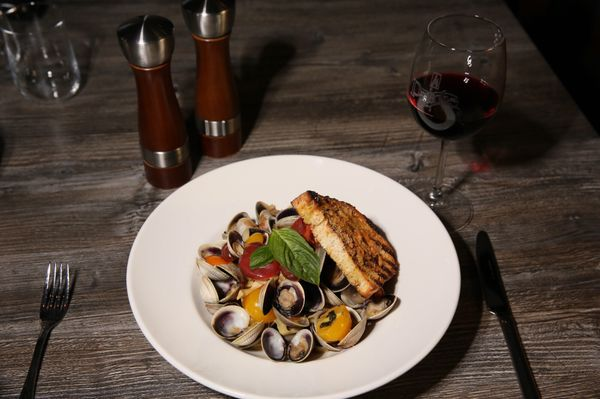burger: (19, 262, 76, 398)
pizza: (0, 3, 93, 103)
sandwich: (474, 230, 541, 399)
soup: (290, 191, 400, 301)
